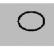no answer: (14, 9, 44, 35)
